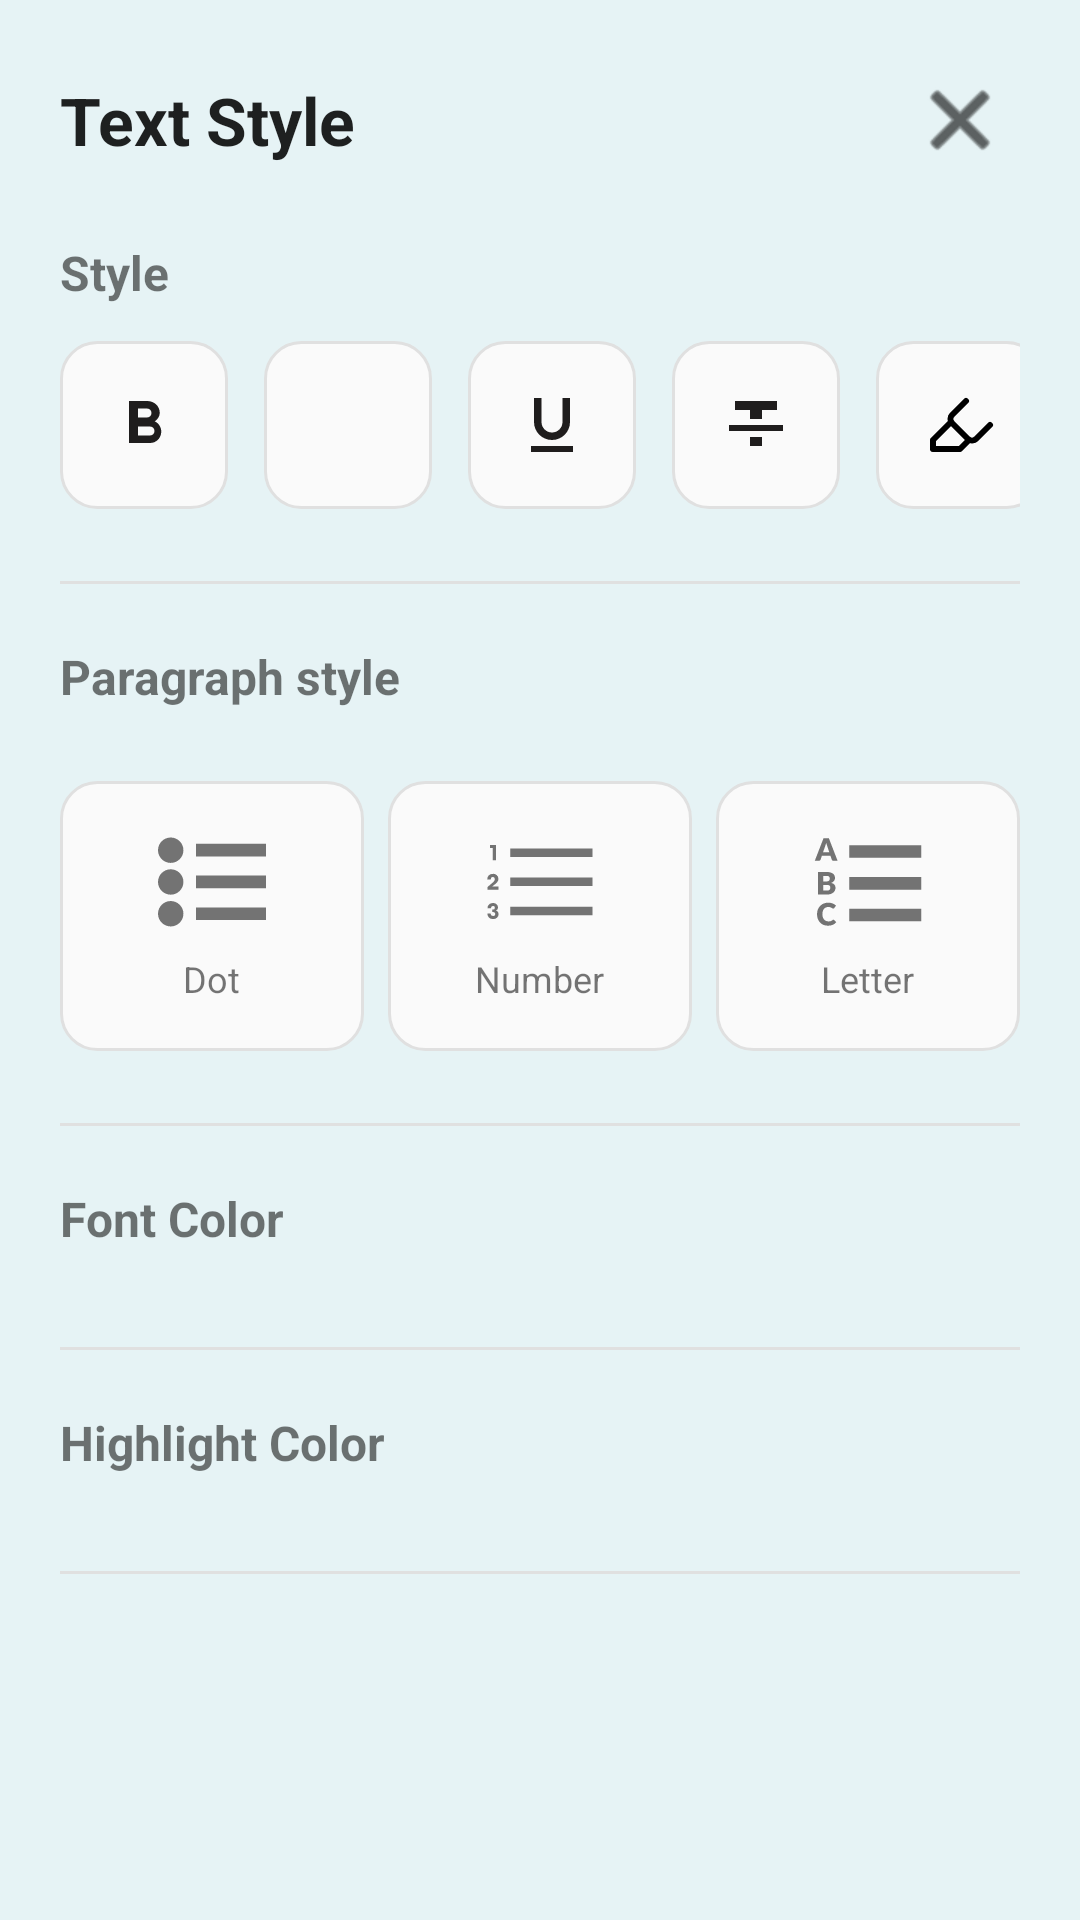

Named icons in this screenshot (1080px×1920px) and their centers, point (x, y):
Bold: point (145, 422)
Close: point (960, 120)
Strikethrough: point (756, 425)
Underline: point (552, 425)
